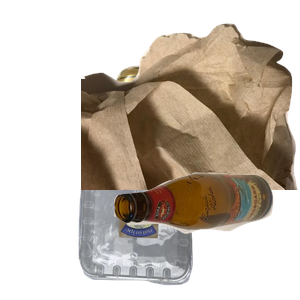glass: (111, 170, 300, 300)
metal: (105, 63, 300, 192)
plastic: (76, 162, 264, 300)
trash: (81, 21, 300, 201)
